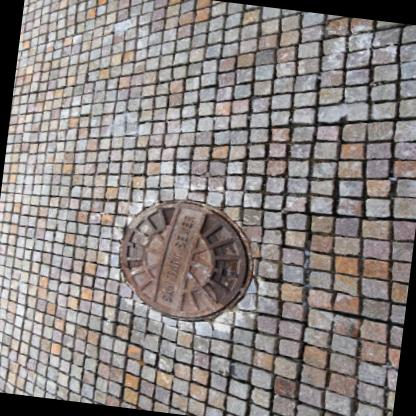manholes: (88, 171, 268, 332)
